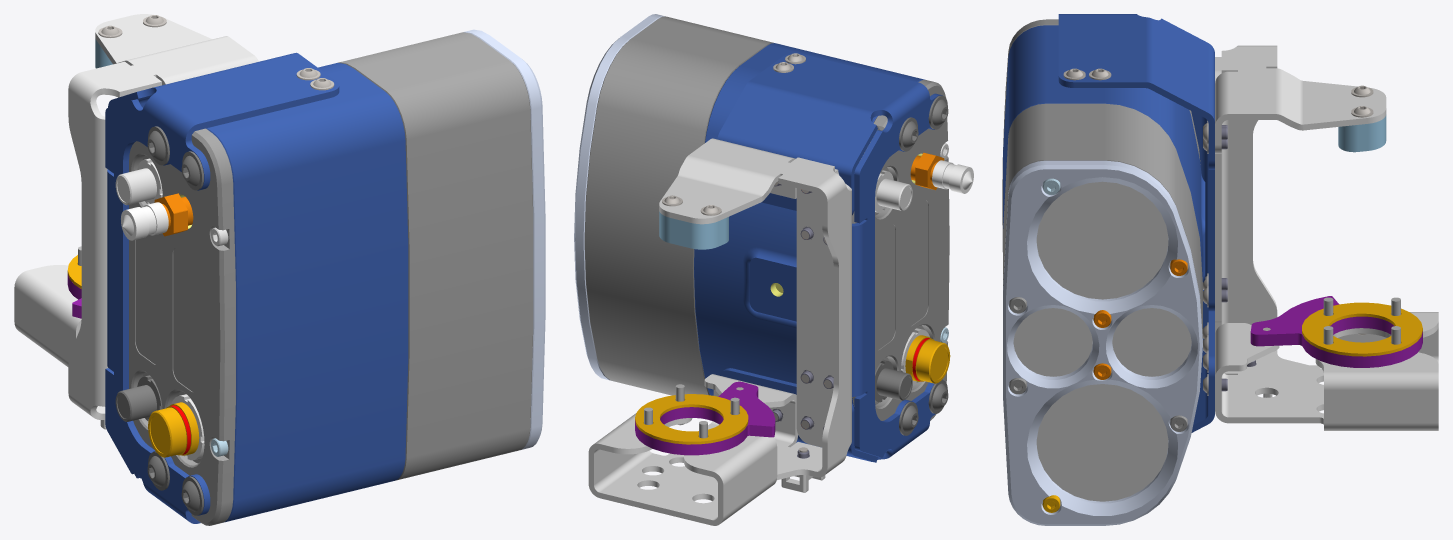
The model's file is neck_pitch_link_1.obj.
The picture shows the model from 3 angles, left to right: view 1: azimuth 30°, elevation 25°; view 2: azimuth 150°, elevation 25°; view 3: azimuth 270°, elevation 25°; orthographic projection. The views are drawn at different scales.
Parts seen in each view (by area): view 1: mesh813, mesh322, mesh3, mesh812, mesh1059, mesh320, mesh1044, mesh1248, mesh1251, mesh1278, mesh335, mesh72 (+23 smaller); view 2: mesh329, mesh836, mesh331, mesh3, mesh1309, mesh1050, mesh1059, mesh1319, mesh1044, mesh1248, mesh1278, mesh335 (+43 smaller); view 3: mesh532, mesh1078, mesh667, mesh1247, mesh1044, mesh1319, mesh491, mesh231, mesh331, mesh533, mesh535, mesh1050 (+38 smaller).
Part boxes in pixels (x1,y1,x2,y2): mesh813: (234,140,407,500); mesh322: (406,110,532,458); mesh3: (129,135,220,523); mesh812: (214,91,405,182); mesh1059: (105,101,204,515); mesh320: (387,60,530,139); mesh1044: (156,54,339,123); mesh1248: (68,89,94,409); mesh1251: (94,115,107,406); mesh1278: (81,37,253,91); mesh335: (355,38,509,90); mesh72: (221,182,235,503); mesh329: (584,105,705,385); mesh836: (694,132,854,403); mesh331: (597,38,738,131); mesh3: (875,85,949,420); mesh1309: (796,188,833,447); mesh1050: (720,85,876,163); mesh1059: (859,95,942,457); mesh1319: (600,423,822,519); mesh1044: (750,53,918,111); mesh1248: (827,188,850,467); mesh1278: (689,139,835,186); mesh335: (631,19,765,64); mesh532: (1006,169,1199,524); mesh1078: (1036,181,1168,299); mesh667: (1036,384,1168,501); mesh1247: (1229,120,1277,324); mesh1044: (1058,15,1145,82); mesh1319: (1224,350,1323,418); mesh491: (1112,308,1191,376); mesh231: (1013,308,1092,376); mesh331: (1104,103,1175,204); mesh533: (1027,379,1177,515); mesh535: (1027,177,1177,313); mesh1050: (1152,18,1207,112).
Bounding box in the file's own units: 0.1309 × 0.1325 × 0.137.
